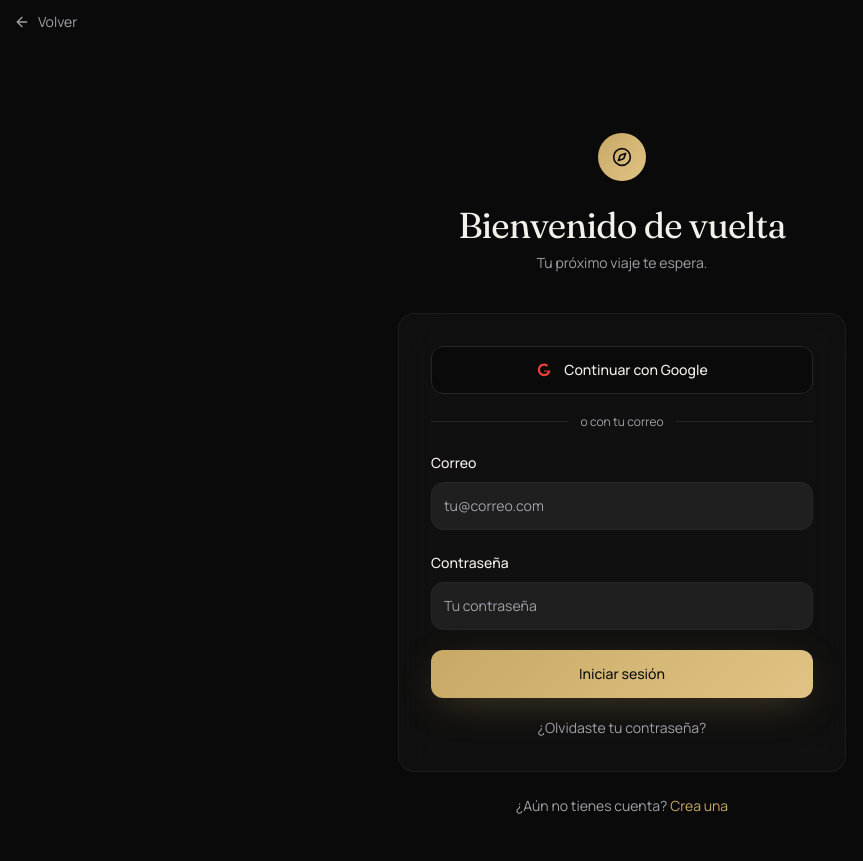
#10 · error de inicio de sesión entendible › 'Correo o contraseña incorrectos' en vez de 'Credenciales inválidas'
Type "ana@example.test" into the field labelled "Correo" at (622, 506), box [431,482,813,530]
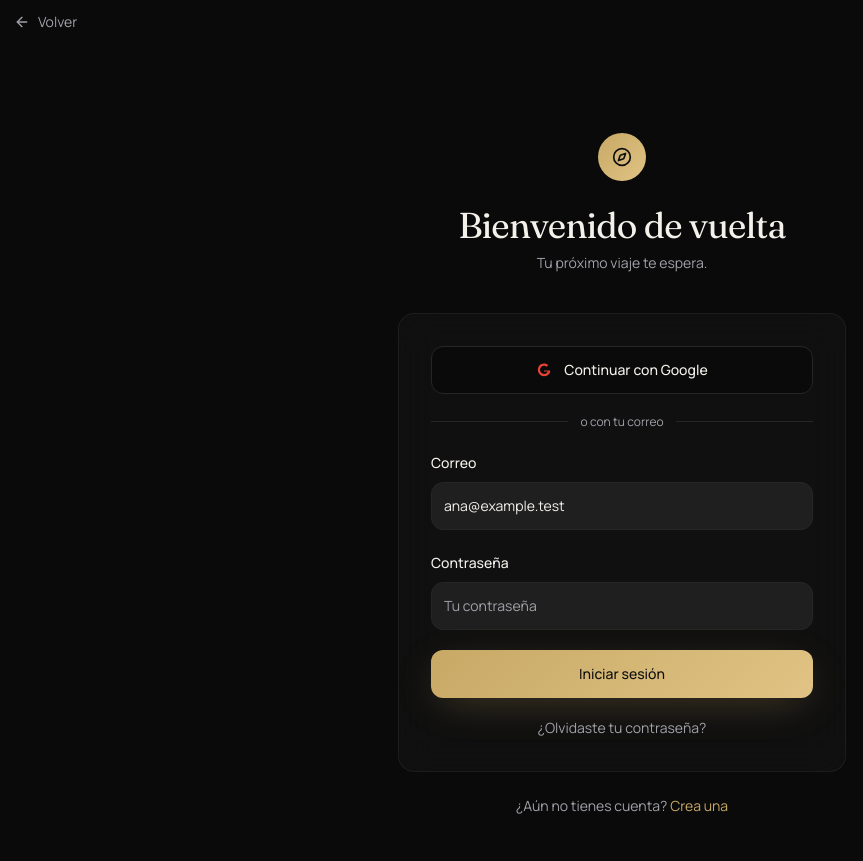
Type "malamala1" into the password field labelled "Contraseña" at (622, 606), box [431,582,813,630]
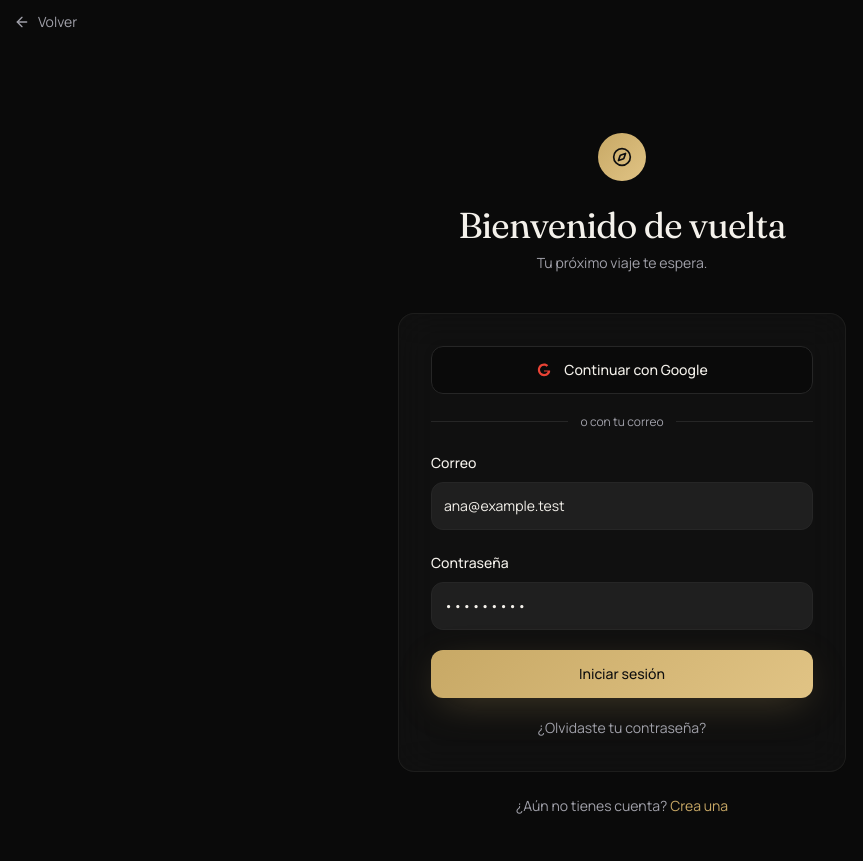
Click the button "Iniciar sesión" at (622, 674), box [431,650,813,698]
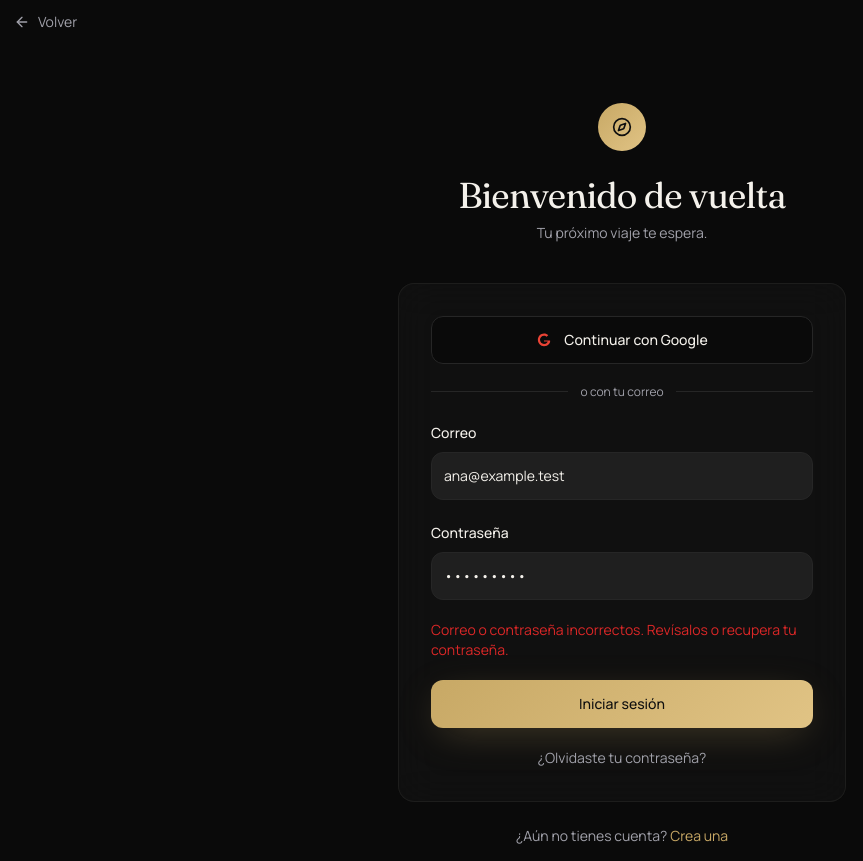
Check: the message with test id "auth-login-error" shows "Correo o contraseña incorrectos", box [431,620,797,658]
